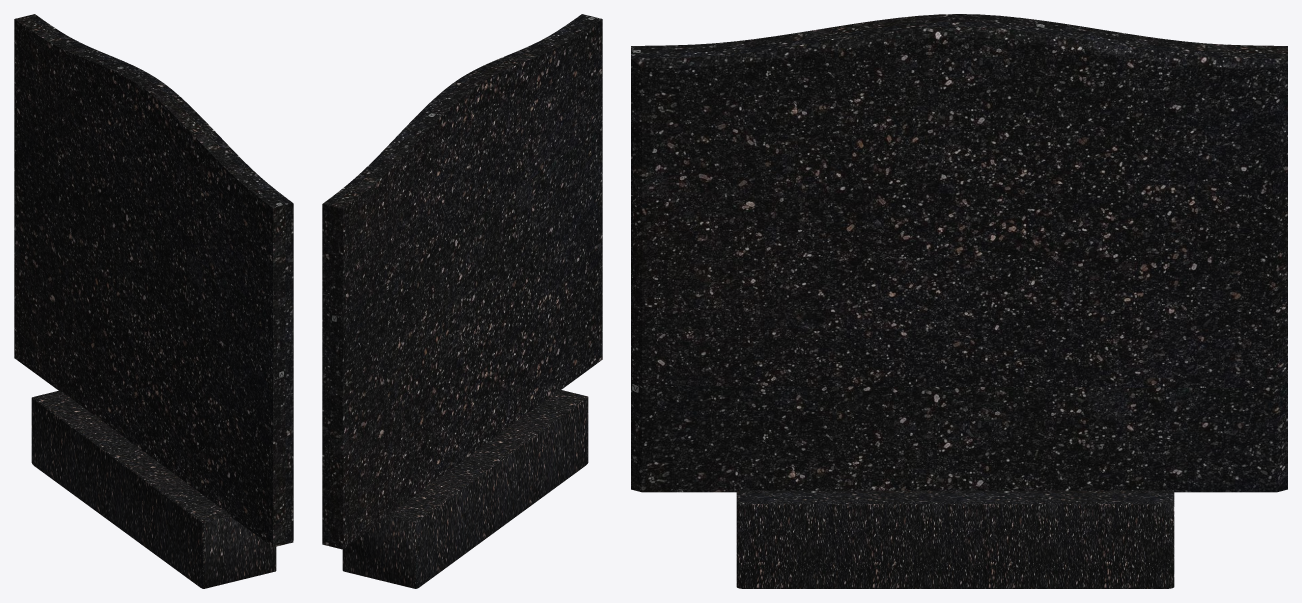
The model's file is Семейный 3.glb.
The picture shows the model from 3 angles, left to right: view 1: azimuth 30°, elevation 25°; view 2: azimuth 150°, elevation 25°; view 3: azimuth 270°, elevation 25°; orthographic projection. The views are drawn at different scales.
Parts seen in each view (by area): view 1: Cube.013, Куб.002; view 2: Cube.013, Куб.002; view 3: Cube.013, Куб.002.
Part boxes in pixels (bbox=[...]): Cube.013: bbox=[14, 14, 293, 547]; Куб.002: bbox=[31, 390, 276, 588]; Cube.013: bbox=[322, 14, 602, 549]; Куб.002: bbox=[342, 390, 588, 588]; Cube.013: bbox=[631, 14, 1287, 492]; Куб.002: bbox=[736, 490, 1174, 588].
Size of the model in its own units: 0.15 by 0.8273 by 0.9.
2 materials, 2 textured.
